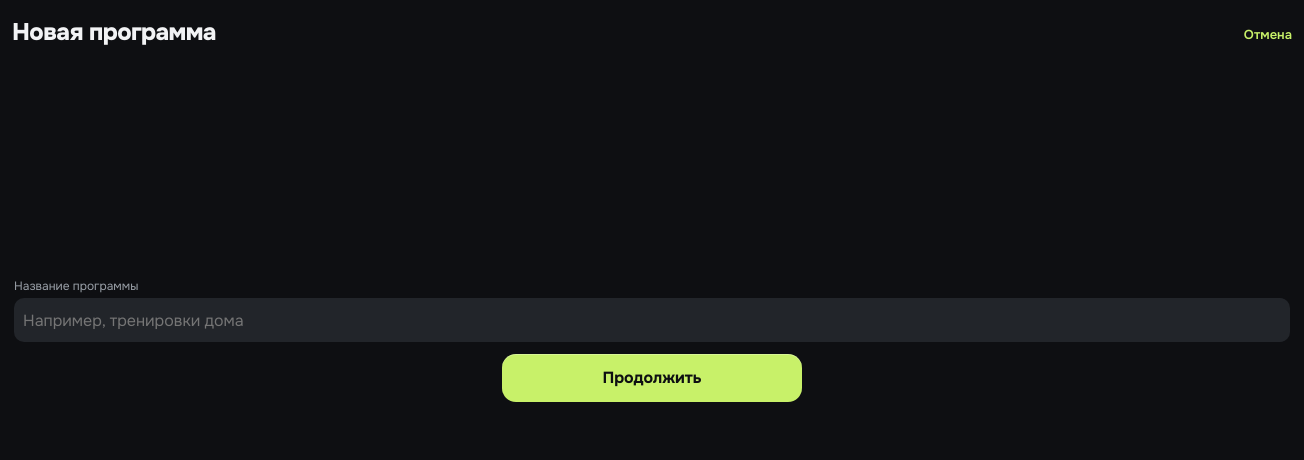
does not save a different exercise while typed text is unconfirmed
Type "Тренировка" into the field labelled "Название программы".
click(652, 320); type("Тренировка")  # box left=14, top=298, right=1290, bottom=342
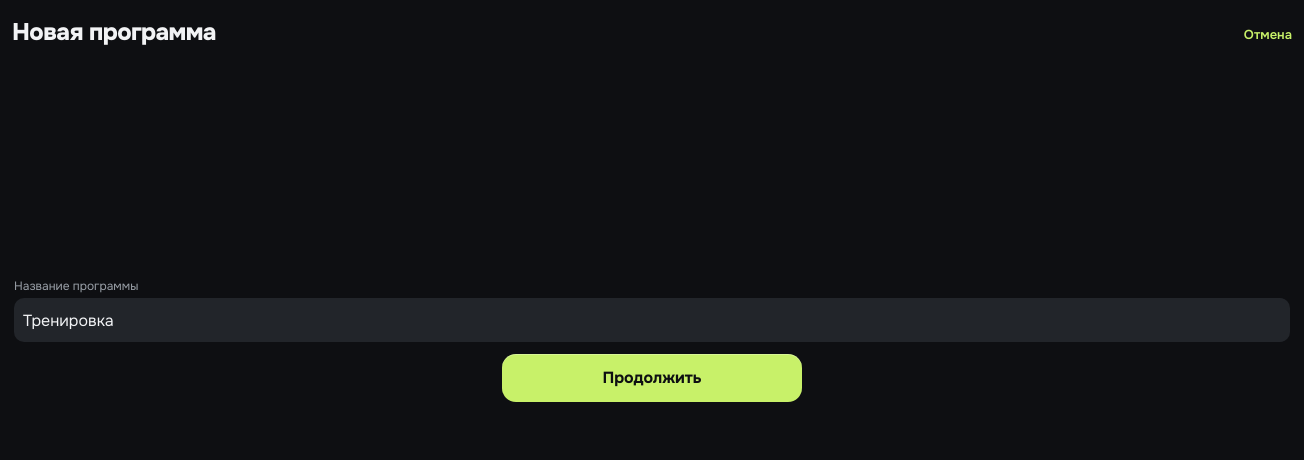
Click the button "Продолжить".
click(652, 378)  # box left=502, top=354, right=802, bottom=402
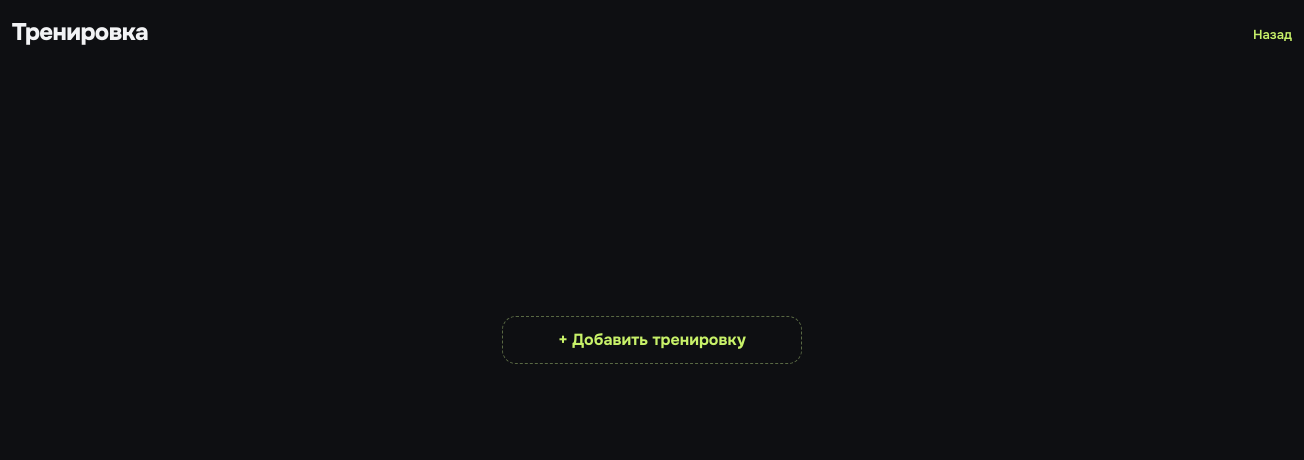
Click the button "+ Добавить тренировку".
click(652, 340)  # box left=502, top=316, right=802, bottom=364
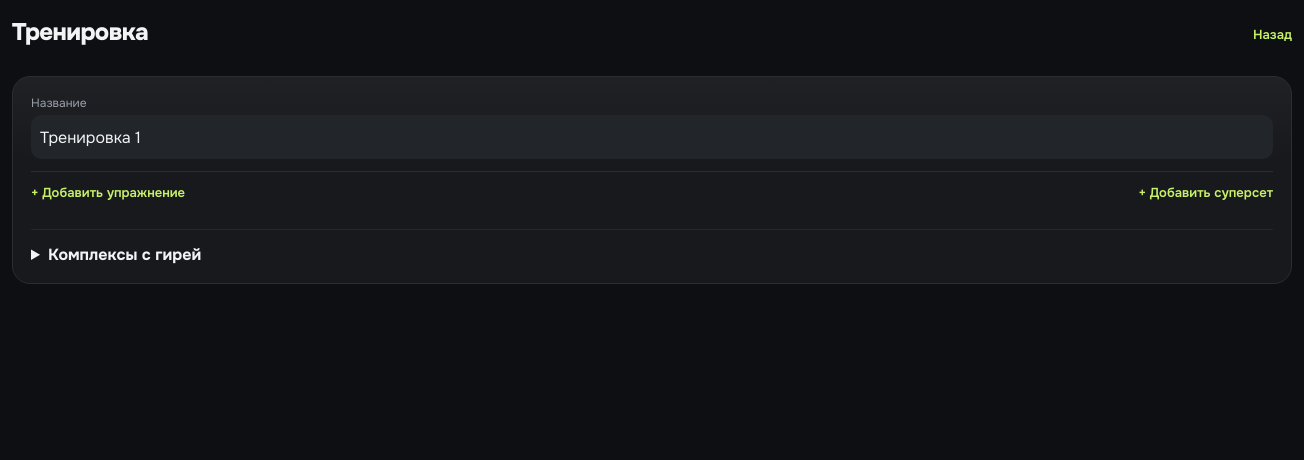
Click the button "+ Добавить упражнение".
click(108, 192)  # box left=31, top=184, right=185, bottom=201
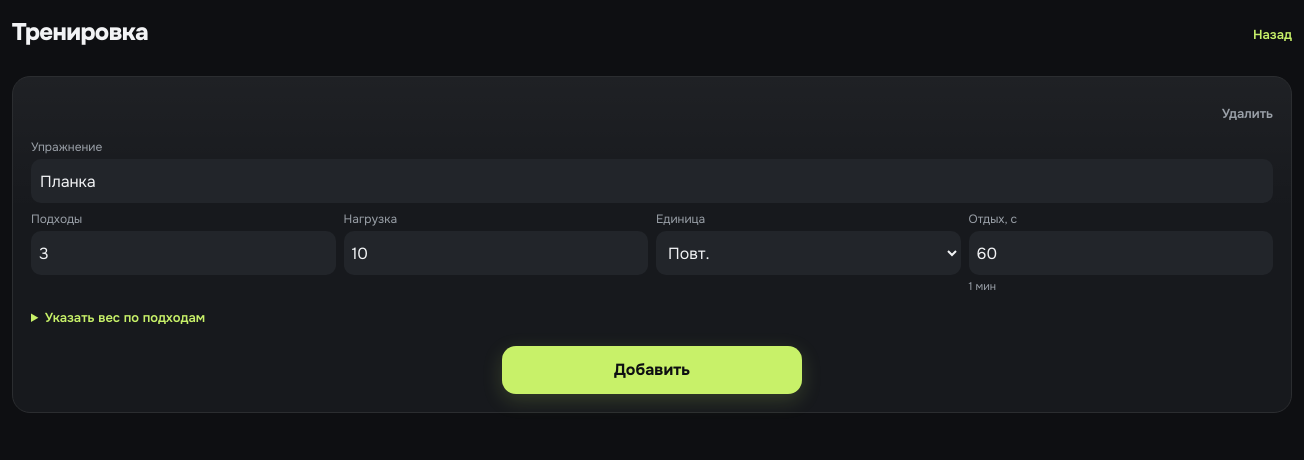
Replace the text in the field named "Упражнение 1" with "Моё упражнение" at (652, 181), box left=31, top=159, right=1273, bottom=203
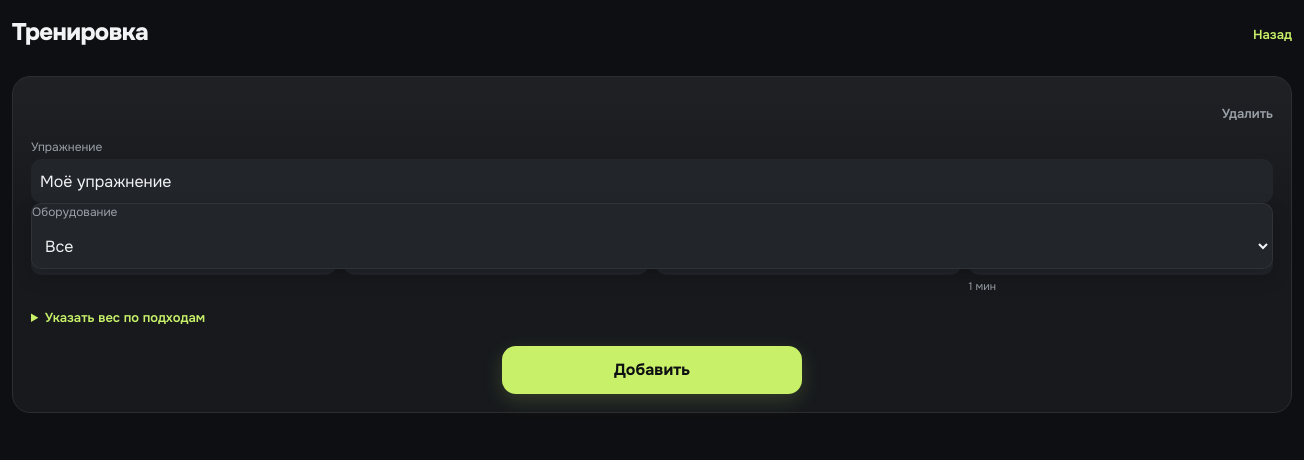
Click the button "Добавить".
click(652, 370)  # box left=502, top=346, right=802, bottom=394
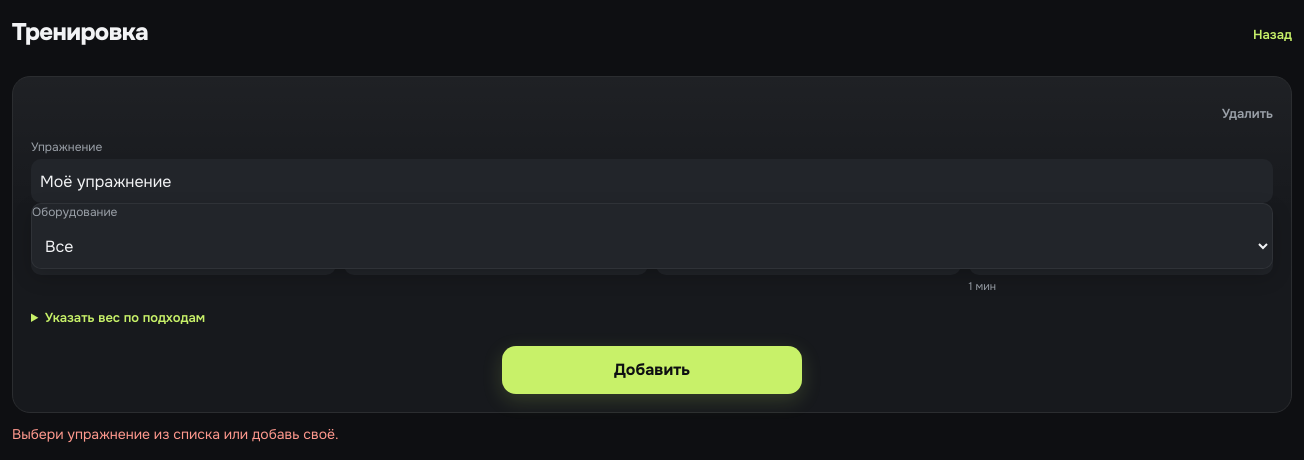
Result: the message shows "Выбери упражнение" at left=12, top=425, right=339, bottom=443
